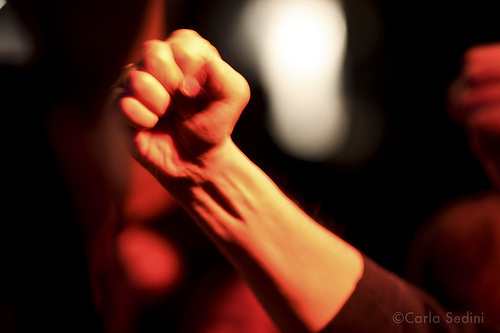fist: (109, 33, 266, 184)
